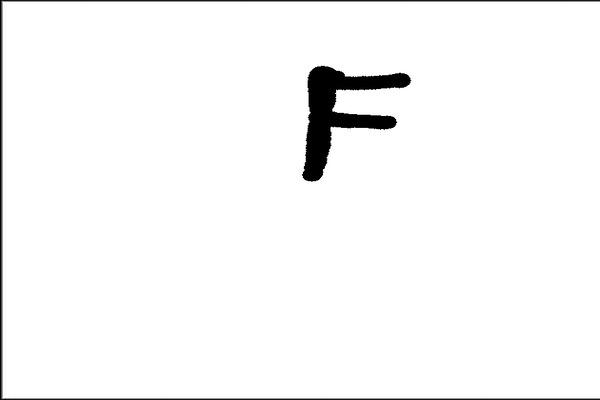F: (294, 62, 412, 184)
